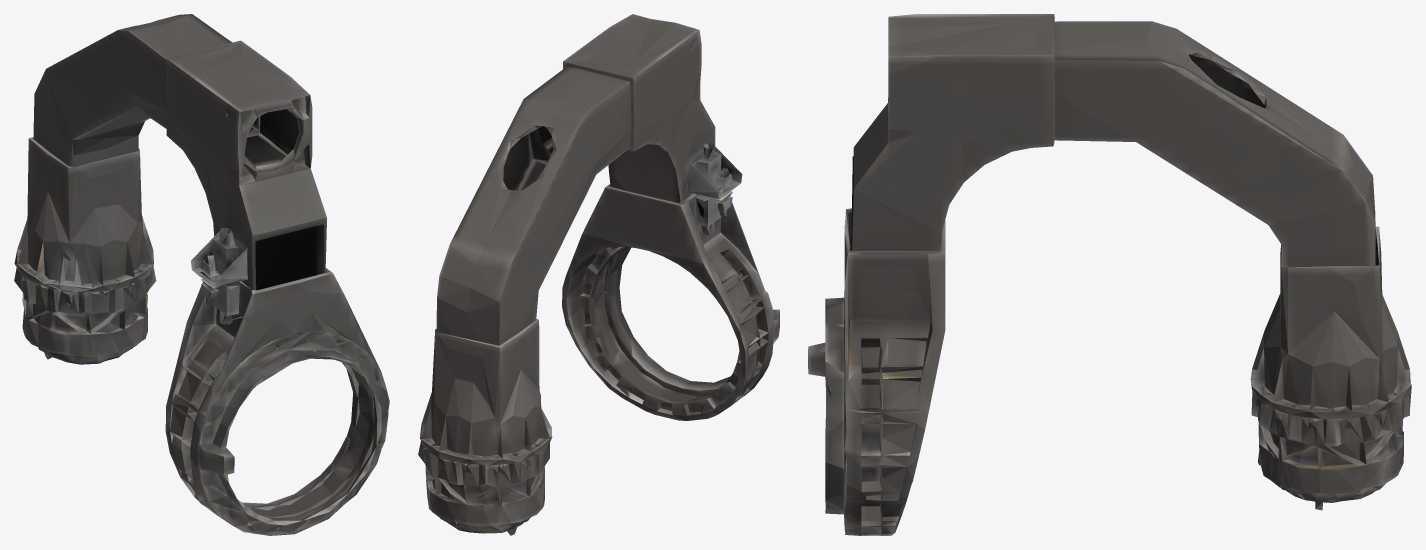
File: steer_rr.obj
3 renders of one model, left to right at view 1: azimuth 30°, elevation 25°; view 2: azimuth 150°, elevation 25°; view 3: azimuth 270°, elevation 25°, orthographic. The views are drawn at different scales.
Size of the model in its own units: 0.2089 by 0.4329 by 0.4854.
Materials: 1 (1 with a texture image).
